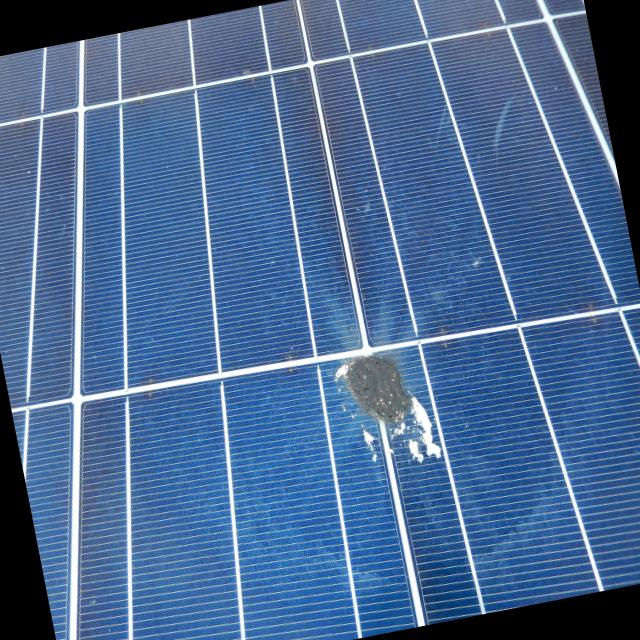faulty: (318, 336, 466, 497)
